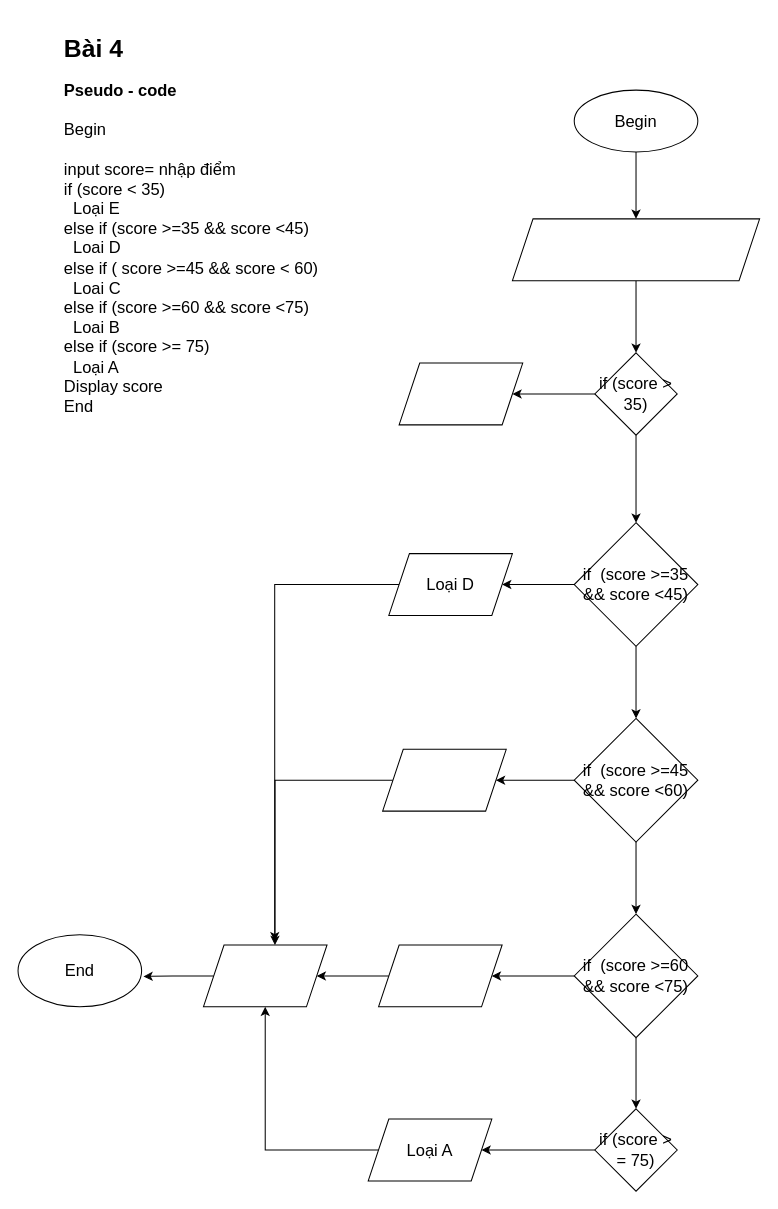
Image size: 778x1209. Some labels were removed from this diagram. Each missing label, with the centre of its shape:
Display score: point (264, 975)
input score= " nhập điểm": point (635, 249)
Loại B: point (439, 975)
Loại C: point (444, 779)
Loại E: point (460, 393)
